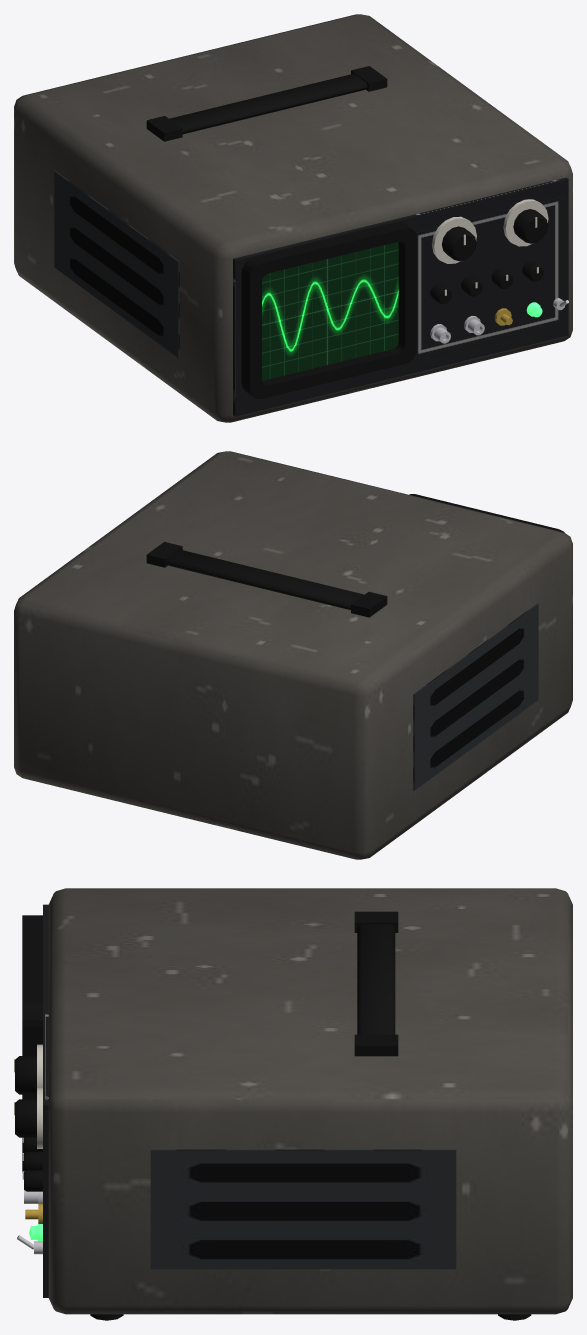
File: oscilloscope.glb
3 views of the same model, one above another, from view 1: azimuth 30°, elevation 25°; view 2: azimuth 150°, elevation 25°; view 3: azimuth 270°, elevation 25° (orthographic). The views are drawn at different scales.
Parts seen in each view (by area): view 1: oscilloscope_N33; view 2: oscilloscope_N33; view 3: oscilloscope_N33.
Boxes of the visible parts, x1,y1,x2,y2 form: oscilloscope_N33: [14, 14, 572, 422]; oscilloscope_N33: [14, 451, 572, 859]; oscilloscope_N33: [14, 888, 572, 1320].
Size of the model in its own units: 0.3524 by 0.186 by 0.3838.
Materials: 2 (2 with a texture image).
